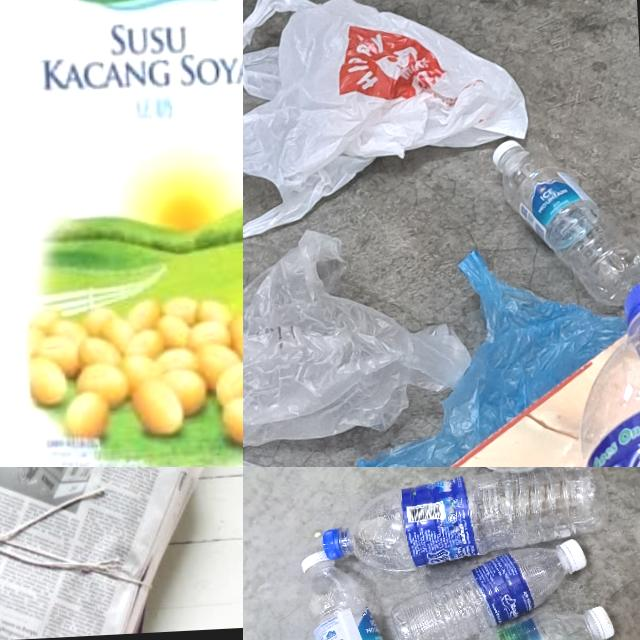caixinha: (7, 0, 243, 467)
garrafa plástica: (353, 467, 615, 568), (501, 144, 640, 311), (375, 547, 576, 640), (577, 304, 640, 467), (302, 572, 428, 640), (426, 607, 606, 640)
papel: (0, 467, 219, 640)
sacola plástica: (243, 0, 534, 241), (345, 242, 637, 467), (243, 219, 477, 452)
tampa plástica: (296, 543, 338, 574), (566, 533, 596, 572), (622, 274, 640, 330), (590, 602, 618, 638), (492, 138, 524, 167), (324, 525, 346, 558)
